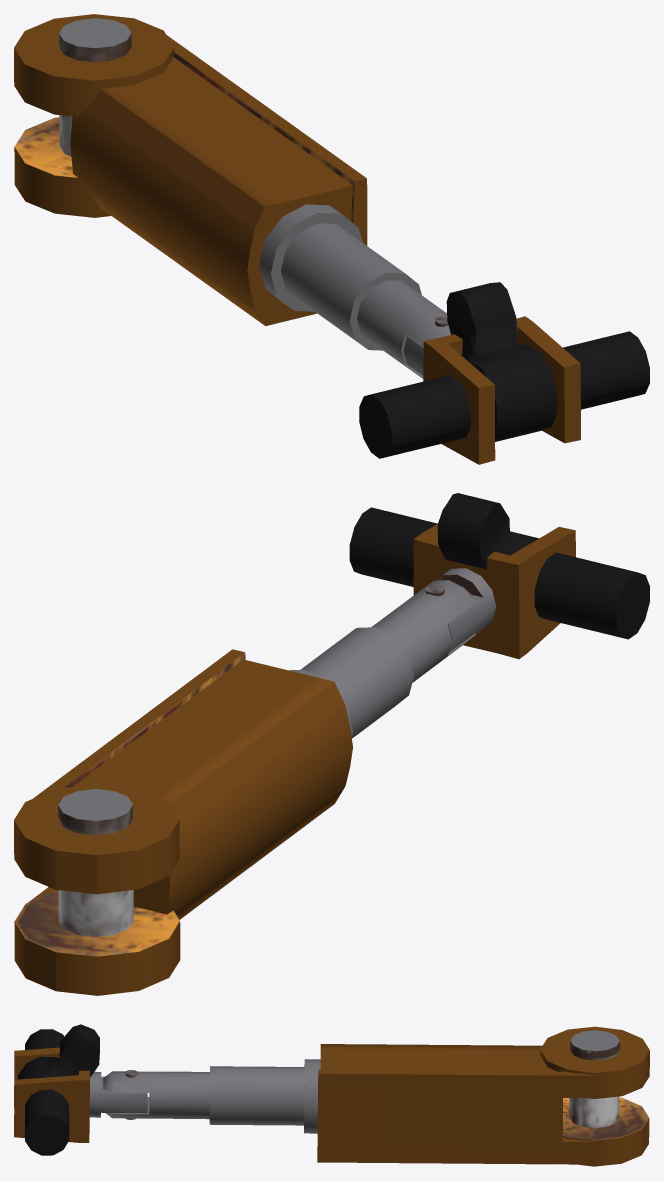
File: handA.obj
3 renders of one model, top to bottom at view 1: azimuth 30°, elevation 25°; view 2: azimuth 150°, elevation 25°; view 3: azimuth 270°, elevation 25°, orthographic. The views are drawn at different scales.
Visible parts, largest first — view 1: hand_lowpolySurface397polySurface52 polySurface22, hand_lowpolySurface397polySurface52 polySurface16, hand_lowpolySurface397polySurface52 polySurface9, hand_lowpolySurface397polySurface52 polySurface23, hand_lowpolySurface397polySurface52 polySurface47, hand_lowpolySurface397polySurface52 polySurface32, hand_lowpolySurface397polySurface52 polySurface4, hand_lowpolySurface397polySurface52 polySurface7, hand_lowpolySurface397polySurface52 polySurface26, hand_lowpolySurface397polySurface52 polySurface45, hand_lowpolySurface397polySurface52 polySurface34, hand_lowpolySurface397polySurface52 polySurface40 (+12 smaller); view 2: hand_lowpolySurface397polySurface52 polySurface22, hand_lowpolySurface397polySurface52 polySurface16, hand_lowpolySurface397polySurface52 polySurface23, hand_lowpolySurface397polySurface52 polySurface26, hand_lowpolySurface397polySurface52 polySurface4, hand_lowpolySurface397polySurface52 polySurface47, hand_lowpolySurface397polySurface52 polySurface34, hand_lowpolySurface397polySurface52 polySurface32, polySurface1 hand_lowpolySurface397polySurface52, hand_lowpolySurface397polySurface52 polySurface9, hand_lowpolySurface397polySurface52 polySurface8, hand_lowpolySurface397polySurface52 polySurface27 (+7 smaller); view 3: hand_lowpolySurface397polySurface52 polySurface36, hand_lowpolySurface397polySurface52 polySurface22, hand_lowpolySurface397polySurface52 polySurface23, hand_lowpolySurface397polySurface52 polySurface32, hand_lowpolySurface397polySurface52 polySurface47, hand_lowpolySurface397polySurface52 polySurface9, hand_lowpolySurface397polySurface52 polySurface10, hand_lowpolySurface397polySurface52 polySurface8, hand_lowpolySurface397polySurface52 polySurface16, hand_lowpolySurface397polySurface52 polySurface34, hand_lowpolySurface397polySurface52 polySurface4, hand_lowpolySurface397polySurface52 polySurface26 (+7 smaller).
Part boxes in pixels (x1,y1,x2,y2): hand_lowpolySurface397polySurface52 polySurface22: [70, 57, 352, 325]; hand_lowpolySurface397polySurface52 polySurface16: [372, 331, 649, 457]; hand_lowpolySurface397polySurface52 polySurface9: [446, 282, 557, 441]; hand_lowpolySurface397polySurface52 polySurface23: [281, 223, 404, 348]; hand_lowpolySurface397polySurface52 polySurface47: [14, 14, 173, 80]; hand_lowpolySurface397polySurface52 polySurface32: [357, 280, 450, 378]; hand_lowpolySurface397polySurface52 polySurface4: [14, 47, 174, 116]; hand_lowpolySurface397polySurface52 polySurface7: [247, 185, 352, 325]; hand_lowpolySurface397polySurface52 polySurface26: [14, 147, 110, 217]; hand_lowpolySurface397polySurface52 polySurface45: [167, 35, 366, 181]; hand_lowpolySurface397polySurface52 polySurface34: [14, 117, 78, 177]; hand_lowpolySurface397polySurface52 polySurface40: [424, 316, 579, 387]; hand_lowpolySurface397polySurface52 polySurface22: [73, 659, 352, 919]; hand_lowpolySurface397polySurface52 polySurface16: [349, 507, 637, 638]; hand_lowpolySurface397polySurface52 polySurface23: [300, 627, 413, 738]; hand_lowpolySurface397polySurface52 polySurface26: [14, 921, 180, 995]; hand_lowpolySurface397polySurface52 polySurface4: [14, 820, 179, 894]; hand_lowpolySurface397polySurface52 polySurface47: [14, 784, 179, 855]; hand_lowpolySurface397polySurface52 polySurface34: [14, 890, 179, 956]; hand_lowpolySurface397polySurface52 polySurface32: [371, 580, 475, 682]; polySurface1 hand_lowpolySurface397polySurface52: [413, 539, 519, 659]; hand_lowpolySurface397polySurface52 polySurface9: [437, 493, 538, 569]; hand_lowpolySurface397polySurface52 polySurface8: [58, 805, 133, 936]; hand_lowpolySurface397polySurface52 polySurface27: [518, 530, 575, 658]; hand_lowpolySurface397polySurface52 polySurface36: [317, 1073, 592, 1164]; hand_lowpolySurface397polySurface52 polySurface22: [320, 1044, 592, 1078]; hand_lowpolySurface397polySurface52 polySurface23: [209, 1066, 304, 1125]; hand_lowpolySurface397polySurface52 polySurface32: [103, 1071, 209, 1119]; hand_lowpolySurface397polySurface52 polySurface47: [540, 1026, 649, 1072]; hand_lowpolySurface397polySurface52 polySurface9: [18, 1024, 99, 1079]; hand_lowpolySurface397polySurface52 polySurface10: [14, 1080, 89, 1142]; hand_lowpolySurface397polySurface52 polySurface8: [569, 1041, 619, 1128]; hand_lowpolySurface397polySurface52 polySurface16: [25, 1029, 69, 1136]; hand_lowpolySurface397polySurface52 polySurface34: [562, 1097, 648, 1140]; hand_lowpolySurface397polySurface52 polySurface4: [540, 1050, 649, 1098]; hand_lowpolySurface397polySurface52 polySurface26: [562, 1118, 649, 1166].
Size of the model in its own units: 80.37 by 52.89 by 250.
Materials: 4 (1 with a texture image).
